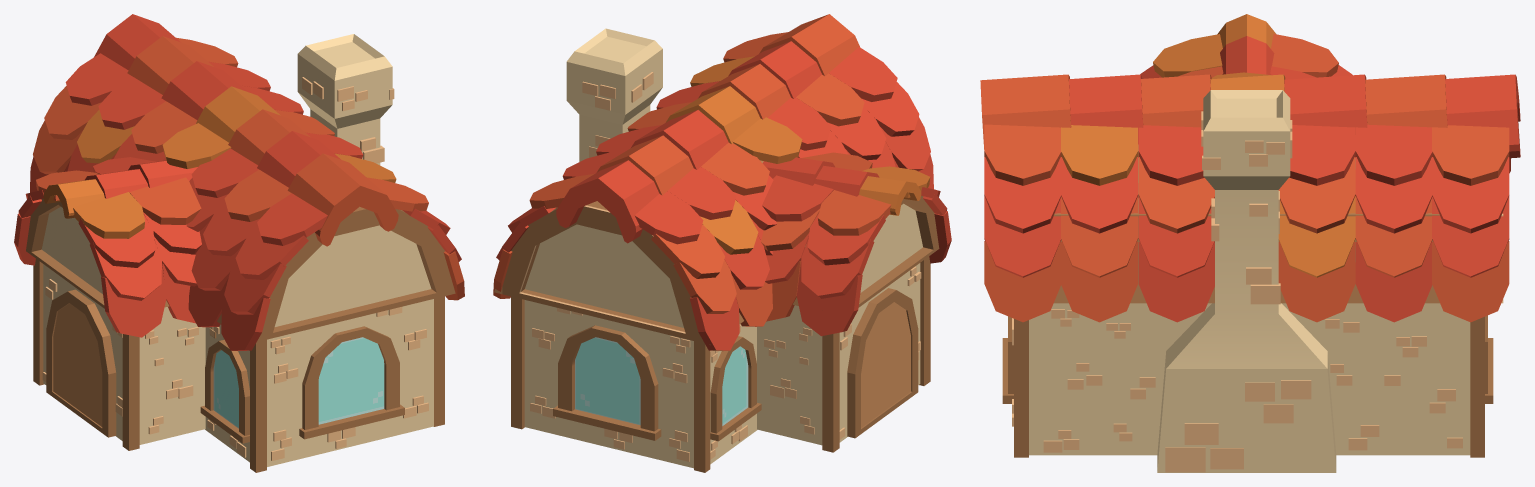
File: Big_House.fbx
The picture shows the model from 3 angles, left to right: view 1: azimuth 30°, elevation 25°; view 2: azimuth 150°, elevation 25°; view 3: azimuth 270°, elevation 25°; orthographic projection. The views are drawn at different scales.
Parts seen in each view (by area): view 1: pCube176; view 2: pCube176; view 3: pCube176.
Part boxes in pixels (x1,y1,x2,y2): pCube176: (14,14,464,472); pCube176: (493,14,951,472); pCube176: (980,14,1520,472).
Size of the model in its own units: 3.85 by 3.46 by 4.8.
